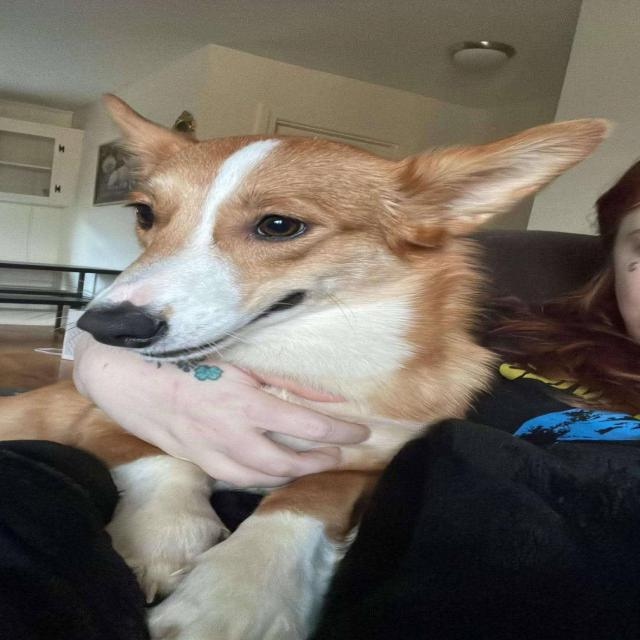corgi_dog: (60, 87, 608, 362)
